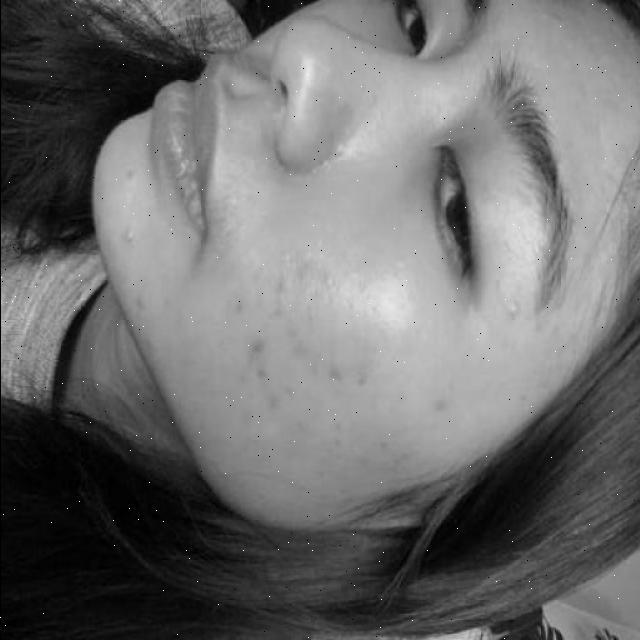Acne: (234, 251, 452, 451)
